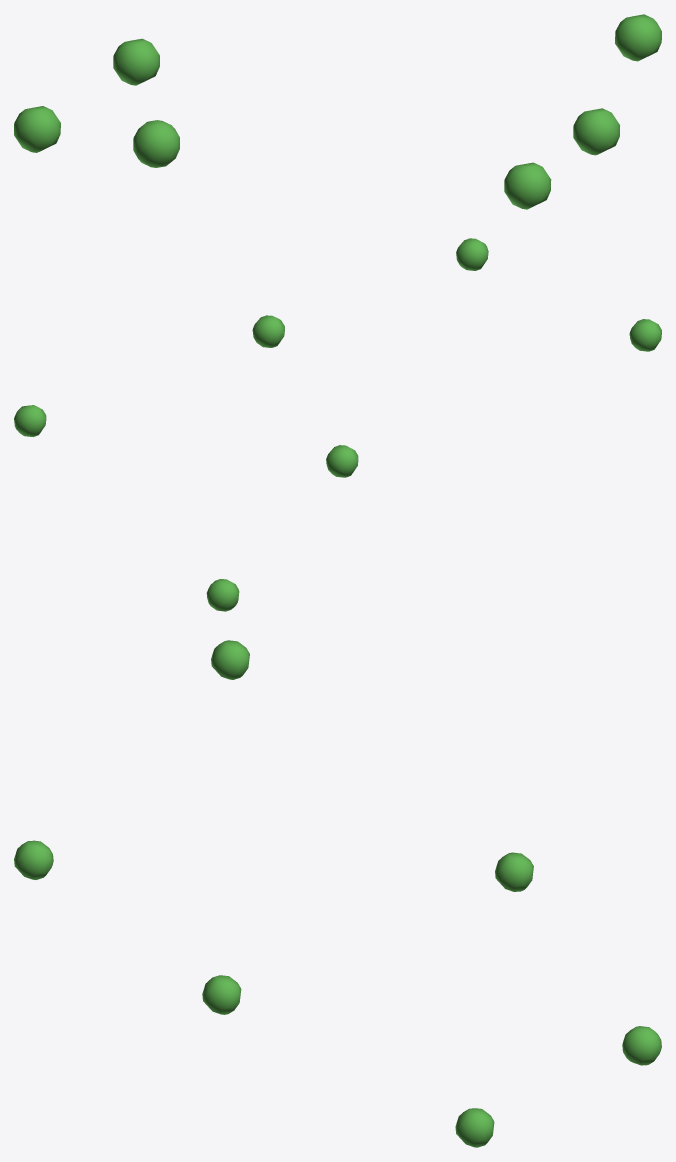
The model's file is linfatico-superior-diaphragmatic-nodes.glb.
3 renders of one model, top to bottom at view 1: azimuth 30°, elevation 25°; view 2: azimuth 150°, elevation 25°; view 3: azimuth 270°, elevation 25°, orthographic. The views are drawn at different scales.
Visible parts, largest first — view 1: Superior diaphragmatic nodes; view 2: Superior diaphragmatic nodes; view 3: Superior diaphragmatic nodes.
Part boxes in pixels (<box>): Superior diaphragmatic nodes: <box>14,14,661,209</box>; Superior diaphragmatic nodes: <box>14,238,661,611</box>; Superior diaphragmatic nodes: <box>14,640,661,1147</box>.
Bounding box in the file's own units: 0.0488 × 0.0194 × 0.0419.
